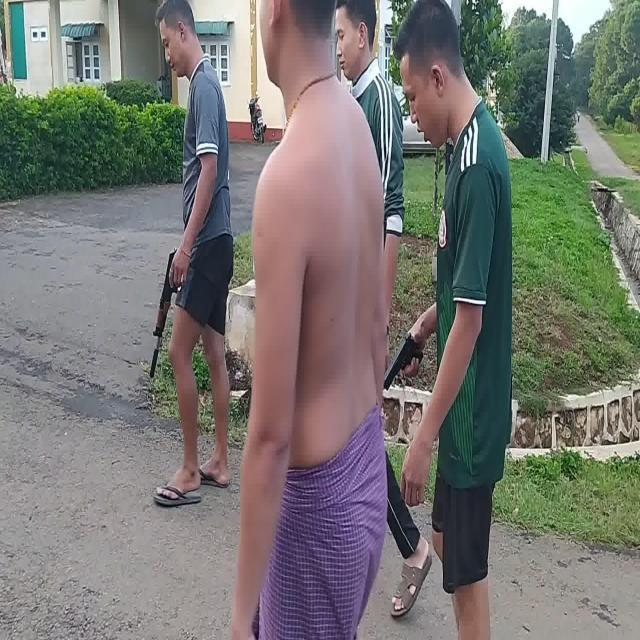gun: (150, 248, 180, 378), (383, 332, 423, 392)
